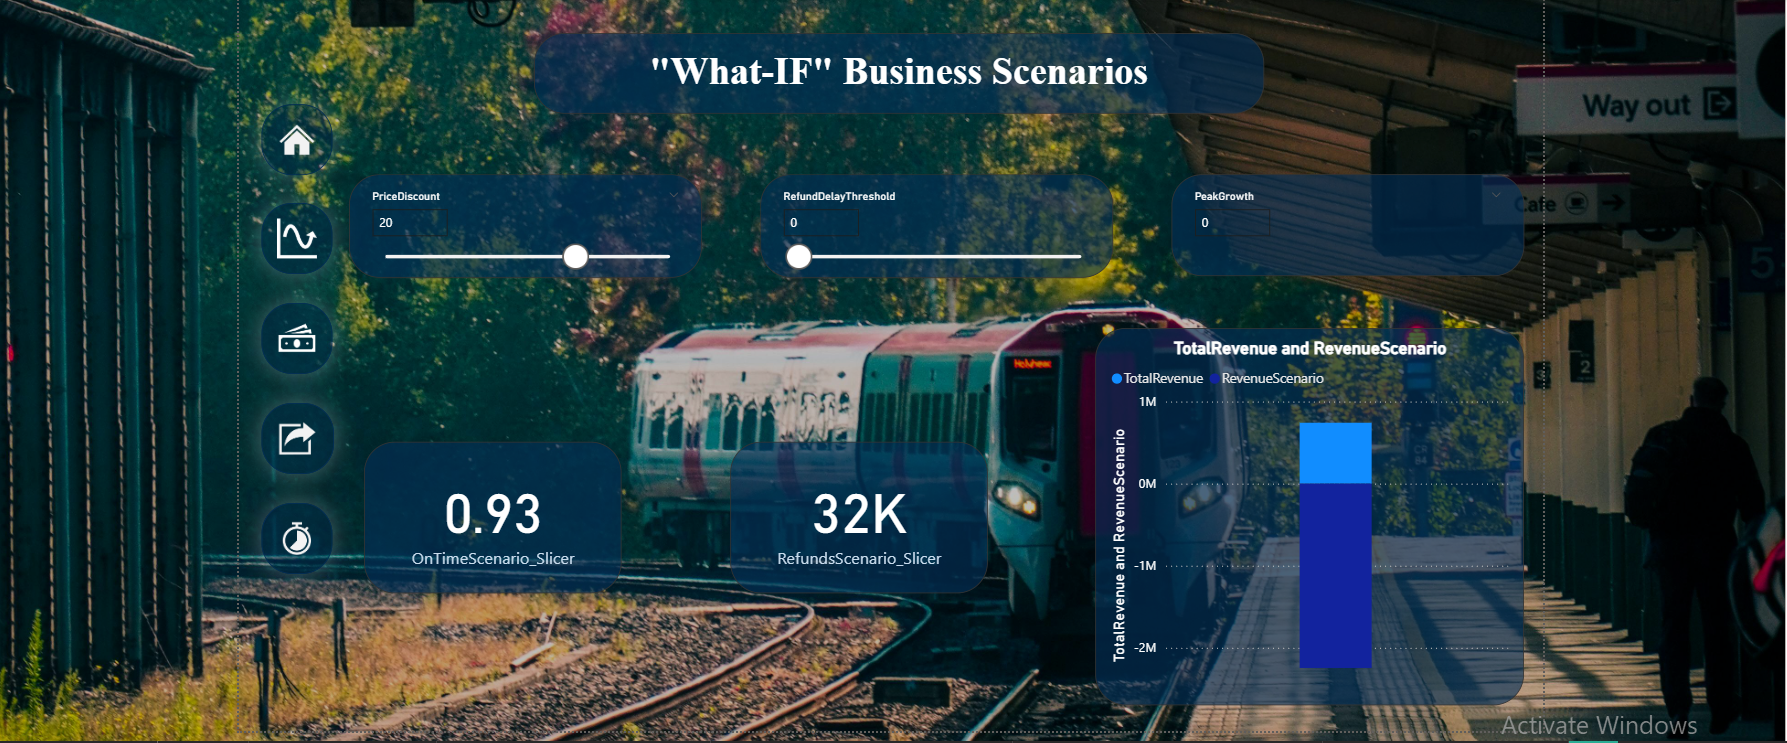

What the dashboard file says about the page in this screenshot:
{"tool":"powerbi","page":{"name":"“What-If” Business Scenarios ","canvas":[1280,720],"ordinal":5},"visuals":[{"type":"slicer","fields":{"Values":["RefundDelayThreshold.RefundDelayThreshold"]},"box":[511.6,172.5,346.1,101.5],"z":0},{"type":"card","fields":{"Values":["_measure.RefundsScenario_Slicer"]},"box":[481.6,435,253.1,149.2],"z":1000},{"type":"slicer","fields":{"Values":["PriceDiscount.PriceDiscount"]},"box":[108,172.5,346.1,101.5],"z":2000},{"type":"columnChart","fields":{"Y":["_measure.TotalRevenue","_measure.RevenueScenario"]},"box":[840.5,324.3,420.7,370.5],"z":3000},{"type":"card","fields":{"Values":["Calendar.OnTimeScenario_Slicer"]},"box":[122.7,435,253.1,149.2],"z":4000},{"type":"slicer","fields":{"Values":["PeakGrowth.PeakGrowth"]},"box":[915.1,173.1,346.1,100.3],"z":5000},{"type":"textbox","title":" Customer Impact on delay and refund","box":[289.3,34.9,716.6,79.5],"z":6000},{"type":"image","box":[22.1,201.8,69.7,69.7],"z":7000},{"type":"image","box":[22.1,299.6,69.7,69.7],"z":8000},{"type":"image","box":[21.5,397.4,70.9,69.7],"z":9000},{"type":"image","box":[22.1,495.2,69.7,69.7],"z":10000},{"type":"image","box":[22.1,103.9,69.7,69.7],"z":11000}]}

Visuals, with their boxes on the page's 1280x720 design canvas (x1, y1, x2, y2). These are canvas units, not pixel positions in the 1787x743 screenshot, which may show the page scaled, cropped or inside an application window:
slicer - RefundDelayThreshold.RefundDelayThreshold: (512, 172, 858, 274)
card - _measure.RefundsScenario_Slicer: (482, 435, 735, 584)
slicer - PriceDiscount.PriceDiscount: (108, 172, 454, 274)
columnChart - _measure.TotalRevenue x _measure.RevenueScenario: (840, 324, 1261, 695)
card - Calendar.OnTimeScenario_Slicer: (123, 435, 376, 584)
slicer - PeakGrowth.PeakGrowth: (915, 173, 1261, 273)
" Customer Impact on delay and refund" textbox: (289, 35, 1006, 114)
image: (22, 202, 92, 272)
image: (22, 300, 92, 369)
image: (22, 397, 92, 467)
image: (22, 495, 92, 565)
image: (22, 104, 92, 174)
